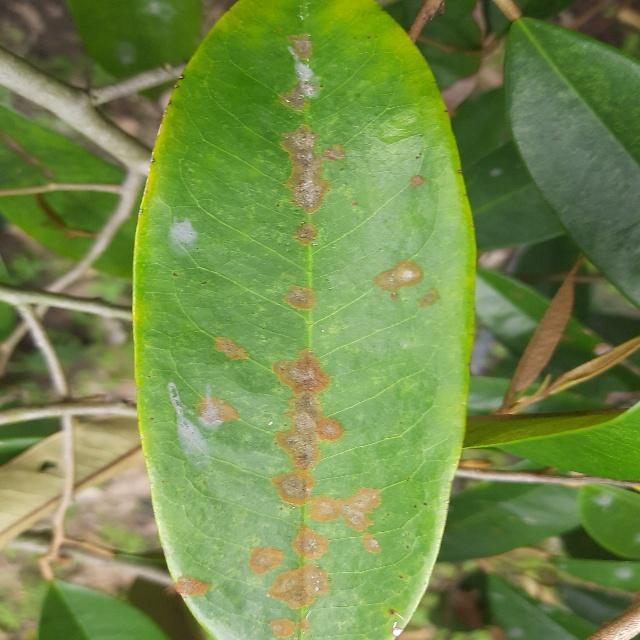Algal Leaf Spot: (131, 0, 481, 640)
